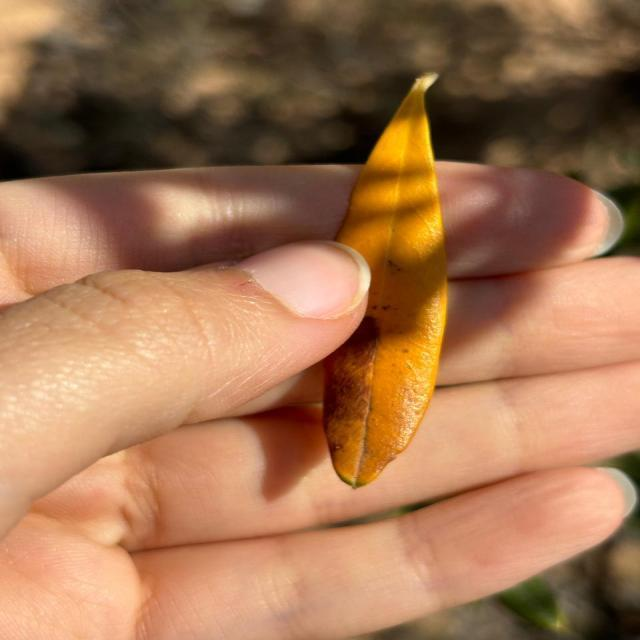OlivePeacockSpot: (322, 74, 447, 488)
